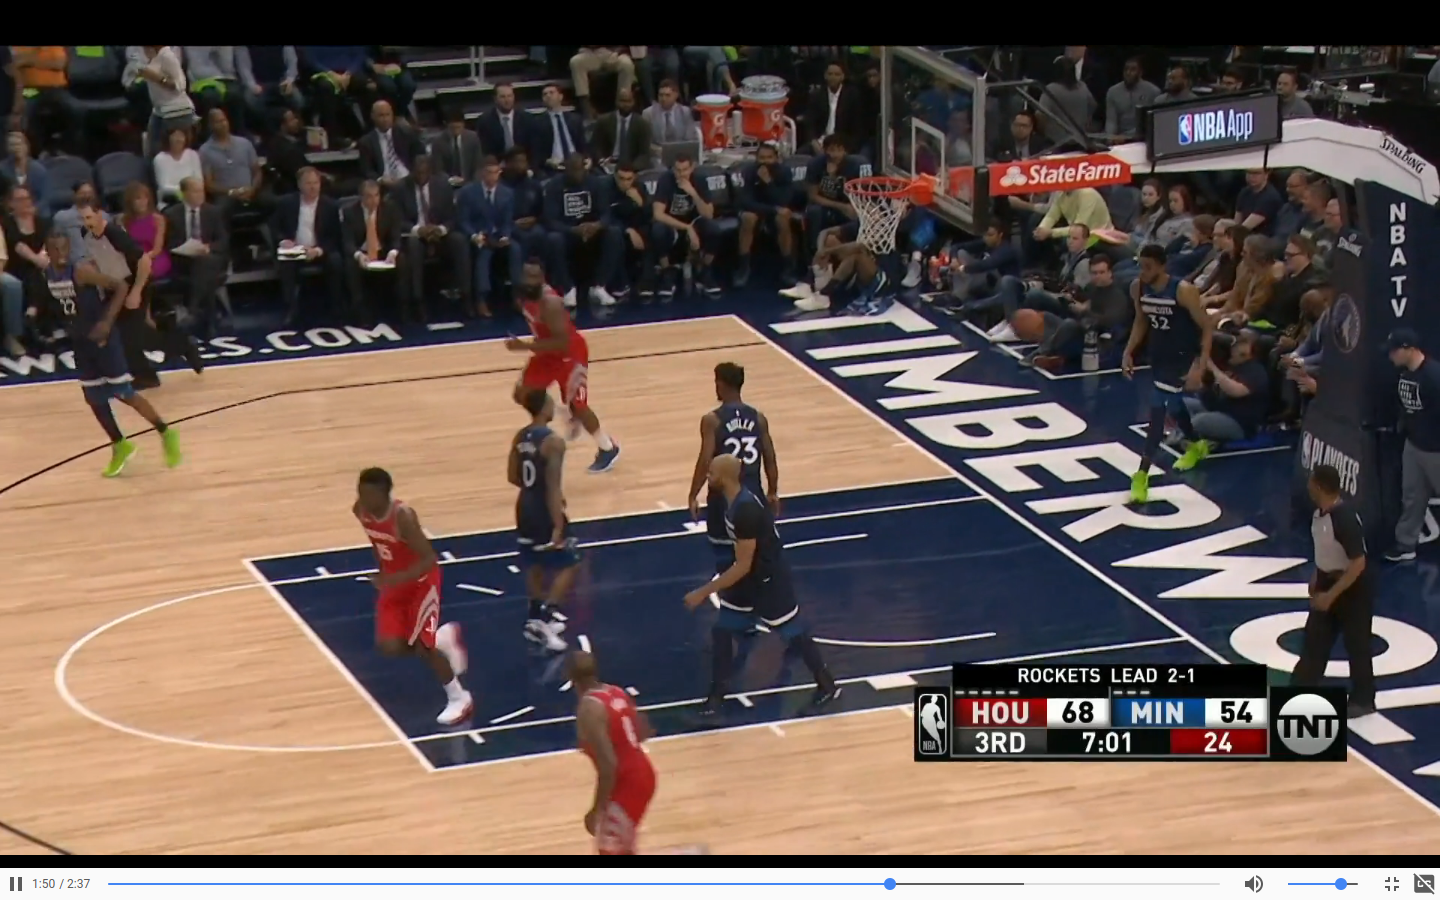ball: (1016, 314, 1045, 349)
player: (46, 243, 205, 473), (346, 463, 488, 722), (709, 463, 841, 709), (562, 651, 672, 857), (518, 269, 622, 477), (1118, 257, 1203, 490), (515, 404, 589, 648), (688, 368, 786, 473)
referee: (1302, 470, 1375, 684)
